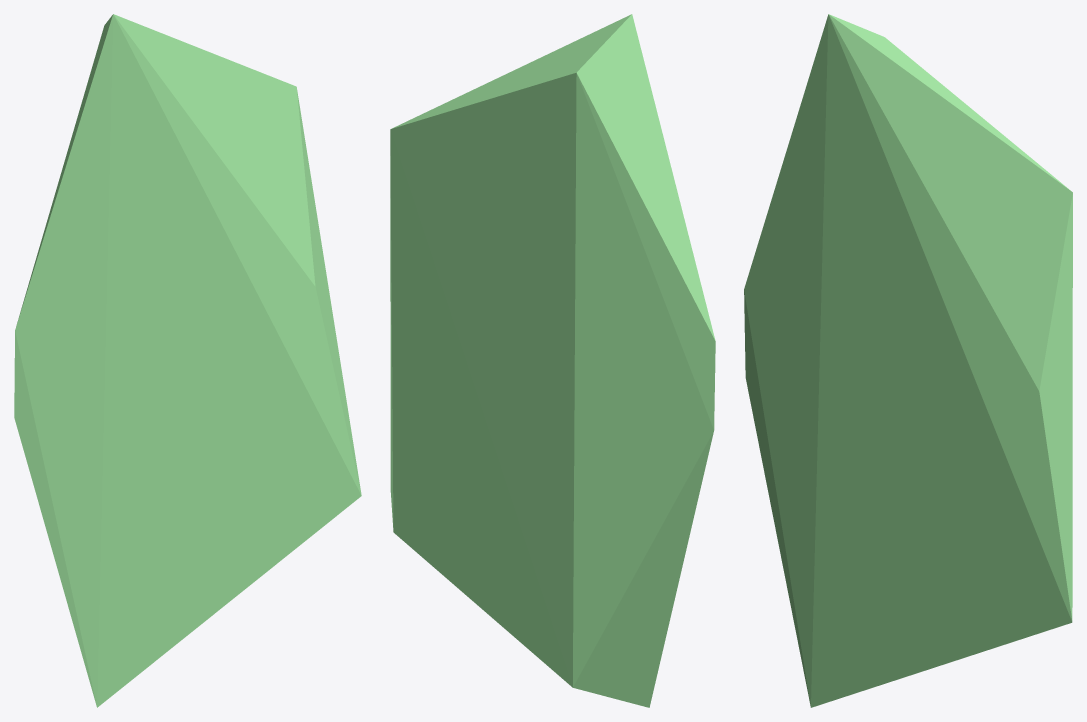
The model's file is linkhou_LR4_R560_link2_respondable_coll_1.dae.
The picture shows the model from 3 angles, left to right: view 1: azimuth 30°, elevation 25°; view 2: azimuth 150°, elevation 25°; view 3: azimuth 330°, elevation 25°; orthographic projection.
Visible parts, largest first — view 1: Node_00000209DB3A90B0; view 2: Node_00000209DB3A90B0; view 3: Node_00000209DB3A90B0.
Part boxes in pixels (left/top/right/bottom): Node_00000209DB3A90B0: left=14, top=14, right=361, bottom=707; Node_00000209DB3A90B0: left=390, top=14, right=715, bottom=707; Node_00000209DB3A90B0: left=744, top=14, right=1072, bottom=707.
Bounding box in the file's own units: 0.041 × 0.0805 × 0.0076.
